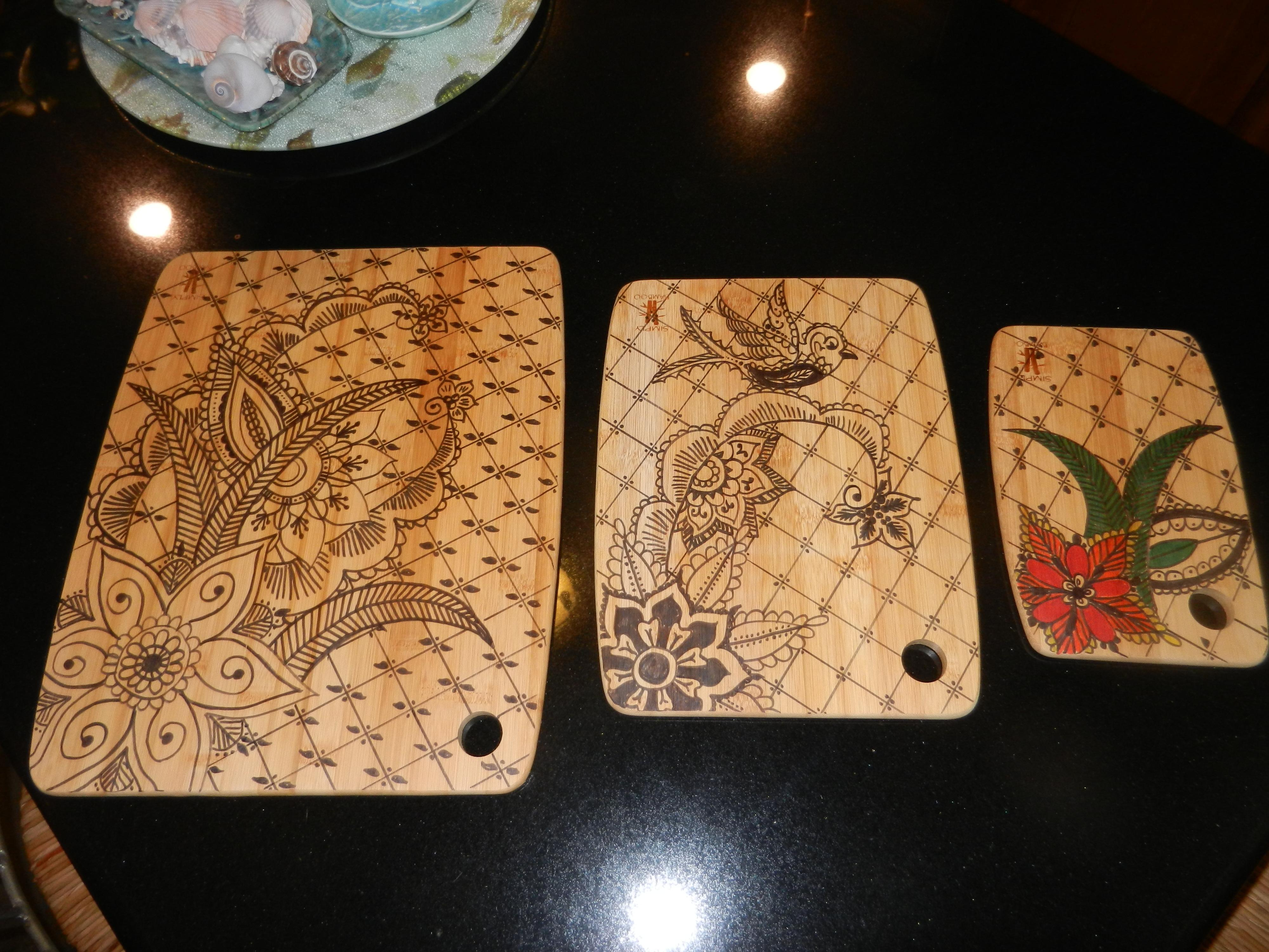gloved_hand: (29, 229, 580, 843)
